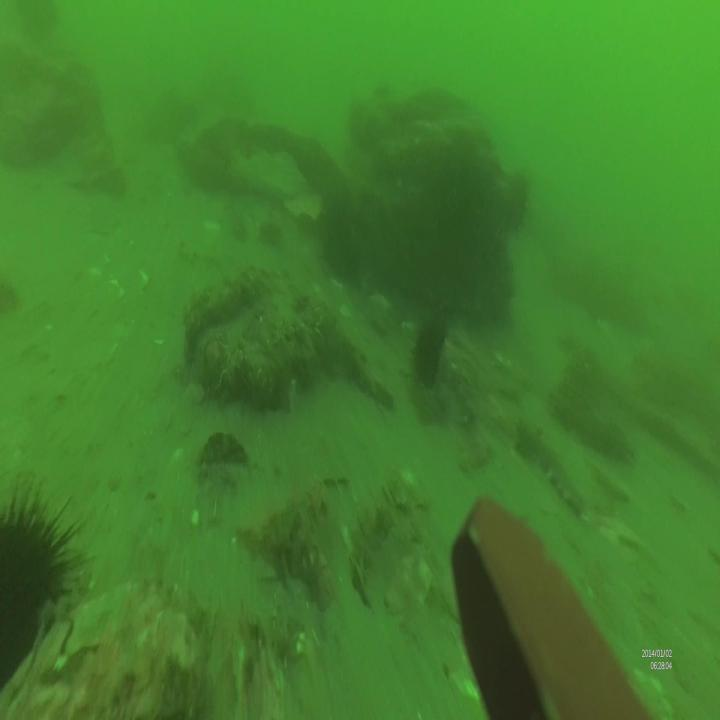echinus: (0, 496, 84, 682)
holothurian: (515, 422, 588, 516)
